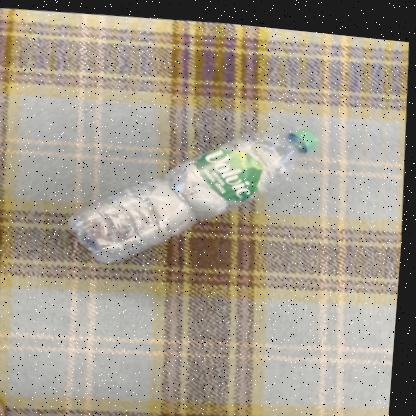Plastic: (71, 121, 321, 260)
